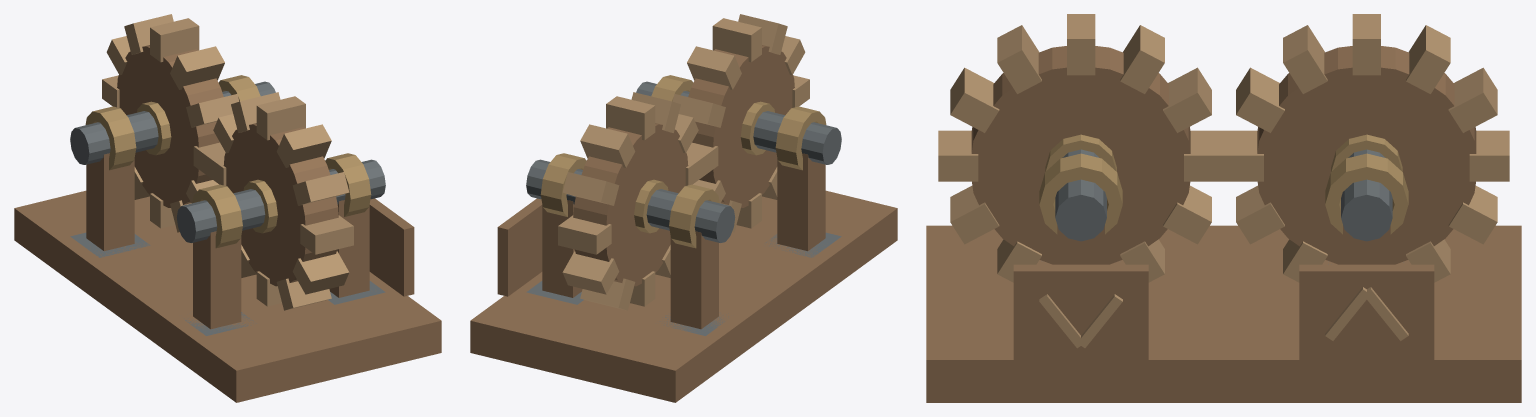
The model's file is vf_reversing_cog.glb.
The picture shows the model from 3 angles, left to right: view 1: azimuth 30°, elevation 25°; view 2: azimuth 150°, elevation 25°; view 3: azimuth 270°, elevation 25°; orthographic projection. The views are drawn at different scales.
Parts seen in each view (by area): view 1: Static_Oak, Rotor_Output_OakLight, Rotor_Output_Oak, Rotor_Oak, Rotor_OakLight, Static_Bronze, Rotor_Output_Iron, Rotor_Iron, Static_Iron, Rotor_Output_Bronze, Rotor_Bronze; view 2: Static_Oak, Rotor_OakLight, Rotor_Oak, Rotor_Output_Oak, Rotor_Output_OakLight, Static_Bronze, Rotor_Iron, Rotor_Output_Iron, Static_Iron, Rotor_Bronze, Rotor_Output_Bronze; view 3: Static_Oak, Rotor_Oak, Rotor_Output_Oak, Rotor_OakLight, Rotor_Output_OakLight, Static_Bronze, Rotor_Iron, Rotor_Output_Iron, Static_OakLight, Rotor_Bronze, Rotor_Output_Bronze.
Part boxes in pixels (left/top/right/bottom): Static_Oak: left=14, top=153, right=441, bottom=402; Rotor_Output_OakLight: left=208, top=92, right=353, bottom=310; Rotor_Output_Oak: left=223, top=123, right=338, bottom=286; Rotor_Oak: left=117, top=45, right=223, bottom=207; Rotor_OakLight: left=102, top=14, right=239, bottom=232; Static_Bronze: left=85, top=75, right=371, bottom=248; Rotor_Output_Iron: left=176, top=159, right=385, bottom=242; Rotor_Iron: left=70, top=81, right=275, bottom=164; Static_Iron: left=70, top=232, right=385, bottom=335; Rotor_Output_Bronze: left=243, top=179, right=277, bottom=233; Rotor_Bronze: left=137, top=101, right=171, bottom=155; Static_Oak: left=470, top=153, right=897, bottom=402; Rotor_OakLight: left=558, top=92, right=703, bottom=310; Rotor_Oak: left=573, top=123, right=688, bottom=286; Rotor_Output_Oak: left=688, top=45, right=794, bottom=207; Rotor_Output_OakLight: left=672, top=14, right=809, bottom=232; Static_Bronze: left=540, top=75, right=826, bottom=248; Rotor_Iron: left=526, top=159, right=735, bottom=242; Rotor_Output_Iron: left=636, top=81, right=841, bottom=164; Static_Iron: left=526, top=232, right=841, bottom=335; Rotor_Bronze: left=634, top=179, right=668, bottom=233; Rotor_Output_Bronze: left=740, top=101, right=774, bottom=155; Static_Oak: left=926, top=225, right=1521, bottom=402; Rotor_Oak: left=1257, top=46, right=1476, bottom=264; Rotor_Output_Oak: left=971, top=46, right=1190, bottom=264; Rotor_OakLight: left=1224, top=14, right=1509, bottom=282; Rotor_Output_OakLight: left=938, top=14, right=1223, bottom=282; Static_Bronze: left=1039, top=153, right=1408, bottom=234; Rotor_Iron: left=1341, top=149, right=1392, bottom=241; Rotor_Output_Iron: left=1055, top=149, right=1106, bottom=241; Static_OakLight: left=1039, top=287, right=1408, bottom=348; Rotor_Bronze: left=1331, top=134, right=1402, bottom=171; Rotor_Output_Bronze: left=1045, top=134, right=1116, bottom=171.
Bounding box in the file's own units: 0.8345 × 0.86 × 1.5.
